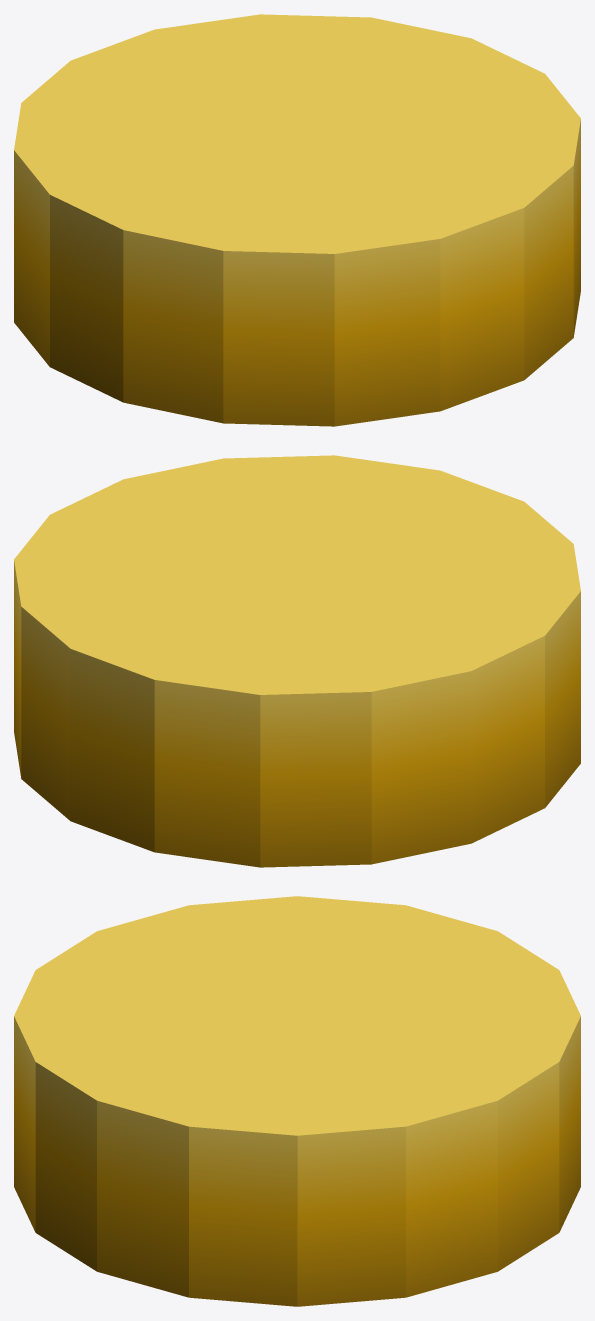
The model's file is Objetivo_Halo.fbx.
3 views of the same model, one above another, from view 1: azimuth 30°, elevation 25°; view 2: azimuth 150°, elevation 25°; view 3: azimuth 270°, elevation 25° (orthographic).
Parts seen in each view (by area): view 1: Cylinder; view 2: Cylinder; view 3: Cylinder.
Boxes of the visible parts, left/top/right/bottom form: Cylinder: left=14, top=14, right=580, bottom=426; Cylinder: left=14, top=455, right=580, bottom=867; Cylinder: left=14, top=896, right=580, bottom=1306.
Size of the model in its own units: 180 by 59.88 by 180.
Materials: 1 (1 with a texture image).
